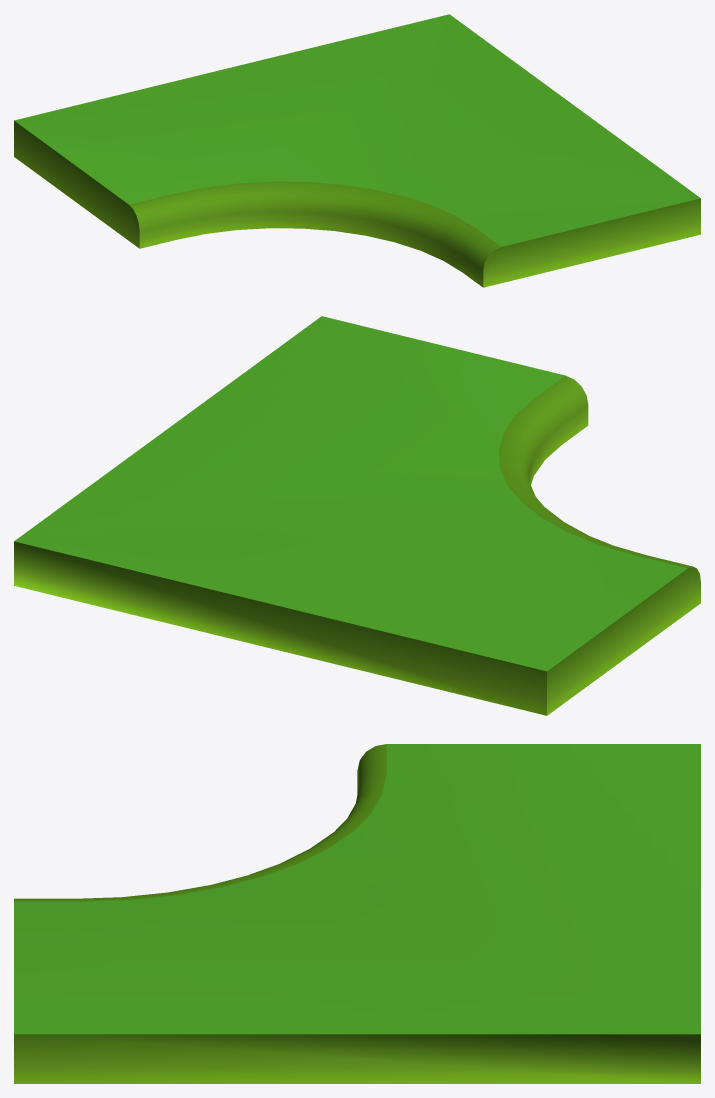
File: GF_ICorner_2_2.obj
3 renders of one model, top to bottom at view 1: azimuth 30°, elevation 25°; view 2: azimuth 150°, elevation 25°; view 3: azimuth 270°, elevation 25°, orthographic. The views are drawn at different scales.
Visible parts, largest first — view 1: GF_ICorner_2_2; view 2: GF_ICorner_2_2; view 3: GF_ICorner_2_2.
Boxes of the visible parts, left/top/right/bottom form: GF_ICorner_2_2: left=14, top=14, right=700, bottom=287; GF_ICorner_2_2: left=14, top=316, right=700, bottom=715; GF_ICorner_2_2: left=14, top=744, right=700, bottom=1083.
Size of the model in its own units: 4 by 0.3187 by 4.
